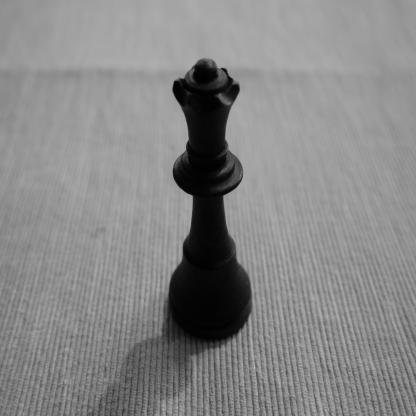black-queen: (167, 56, 254, 344)
